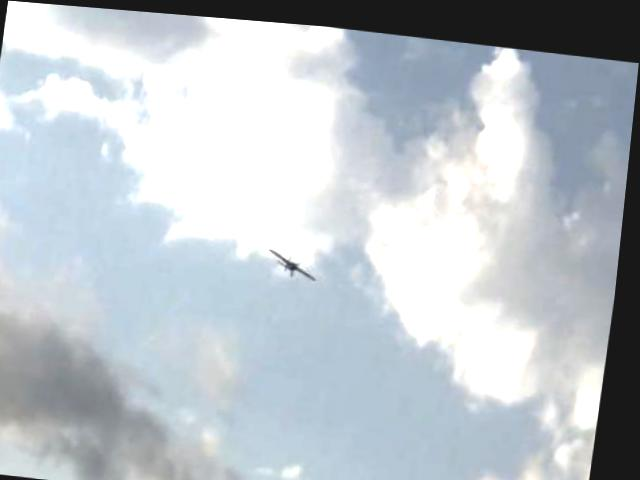uav: (264, 233, 331, 292)
